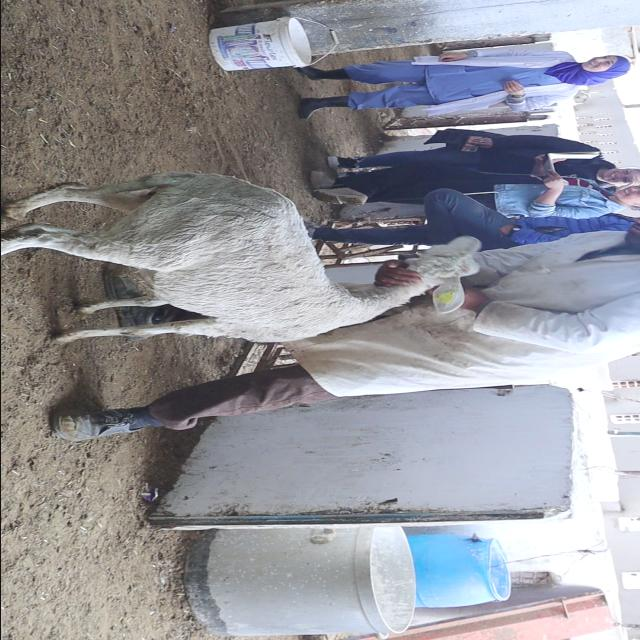Score_3: (1, 172, 479, 343)
